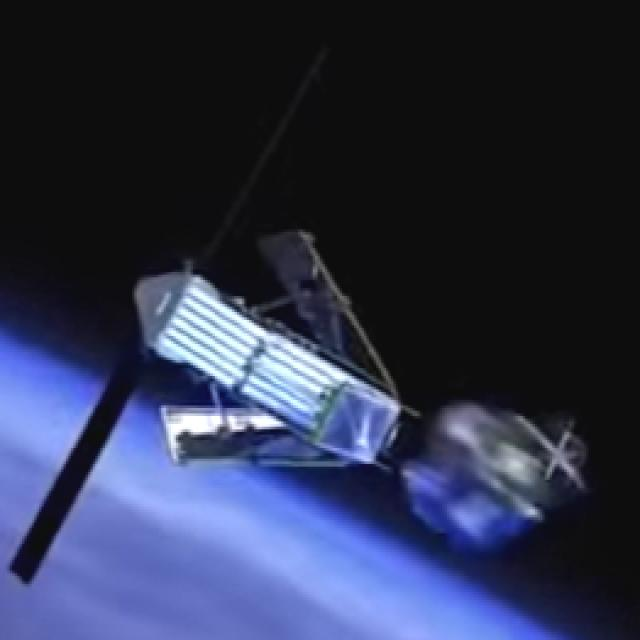large_debris: (6, 222, 422, 589), (406, 401, 591, 556)
